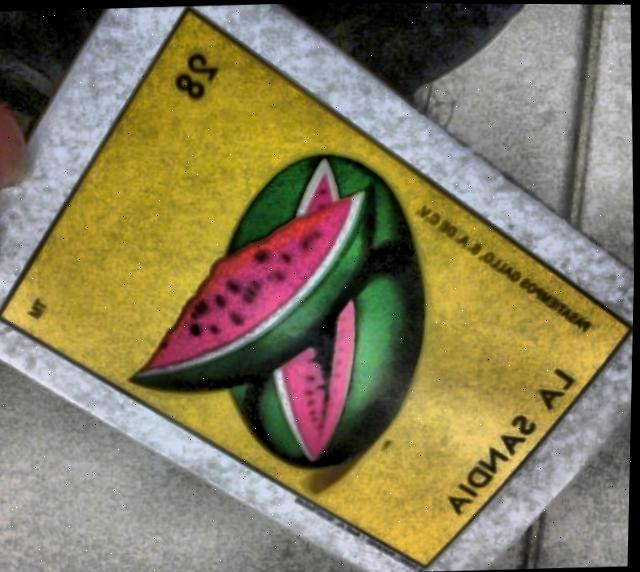La Sandia: (1, 12, 634, 568)
